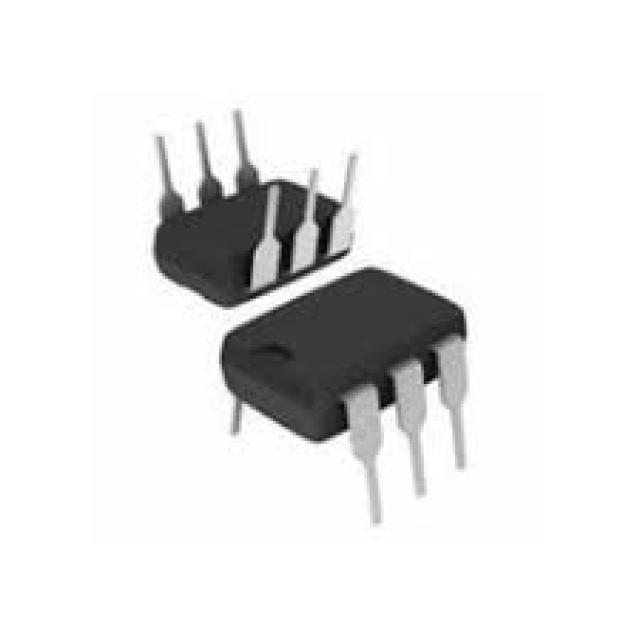IC: (201, 264, 486, 514), (152, 107, 361, 307)
